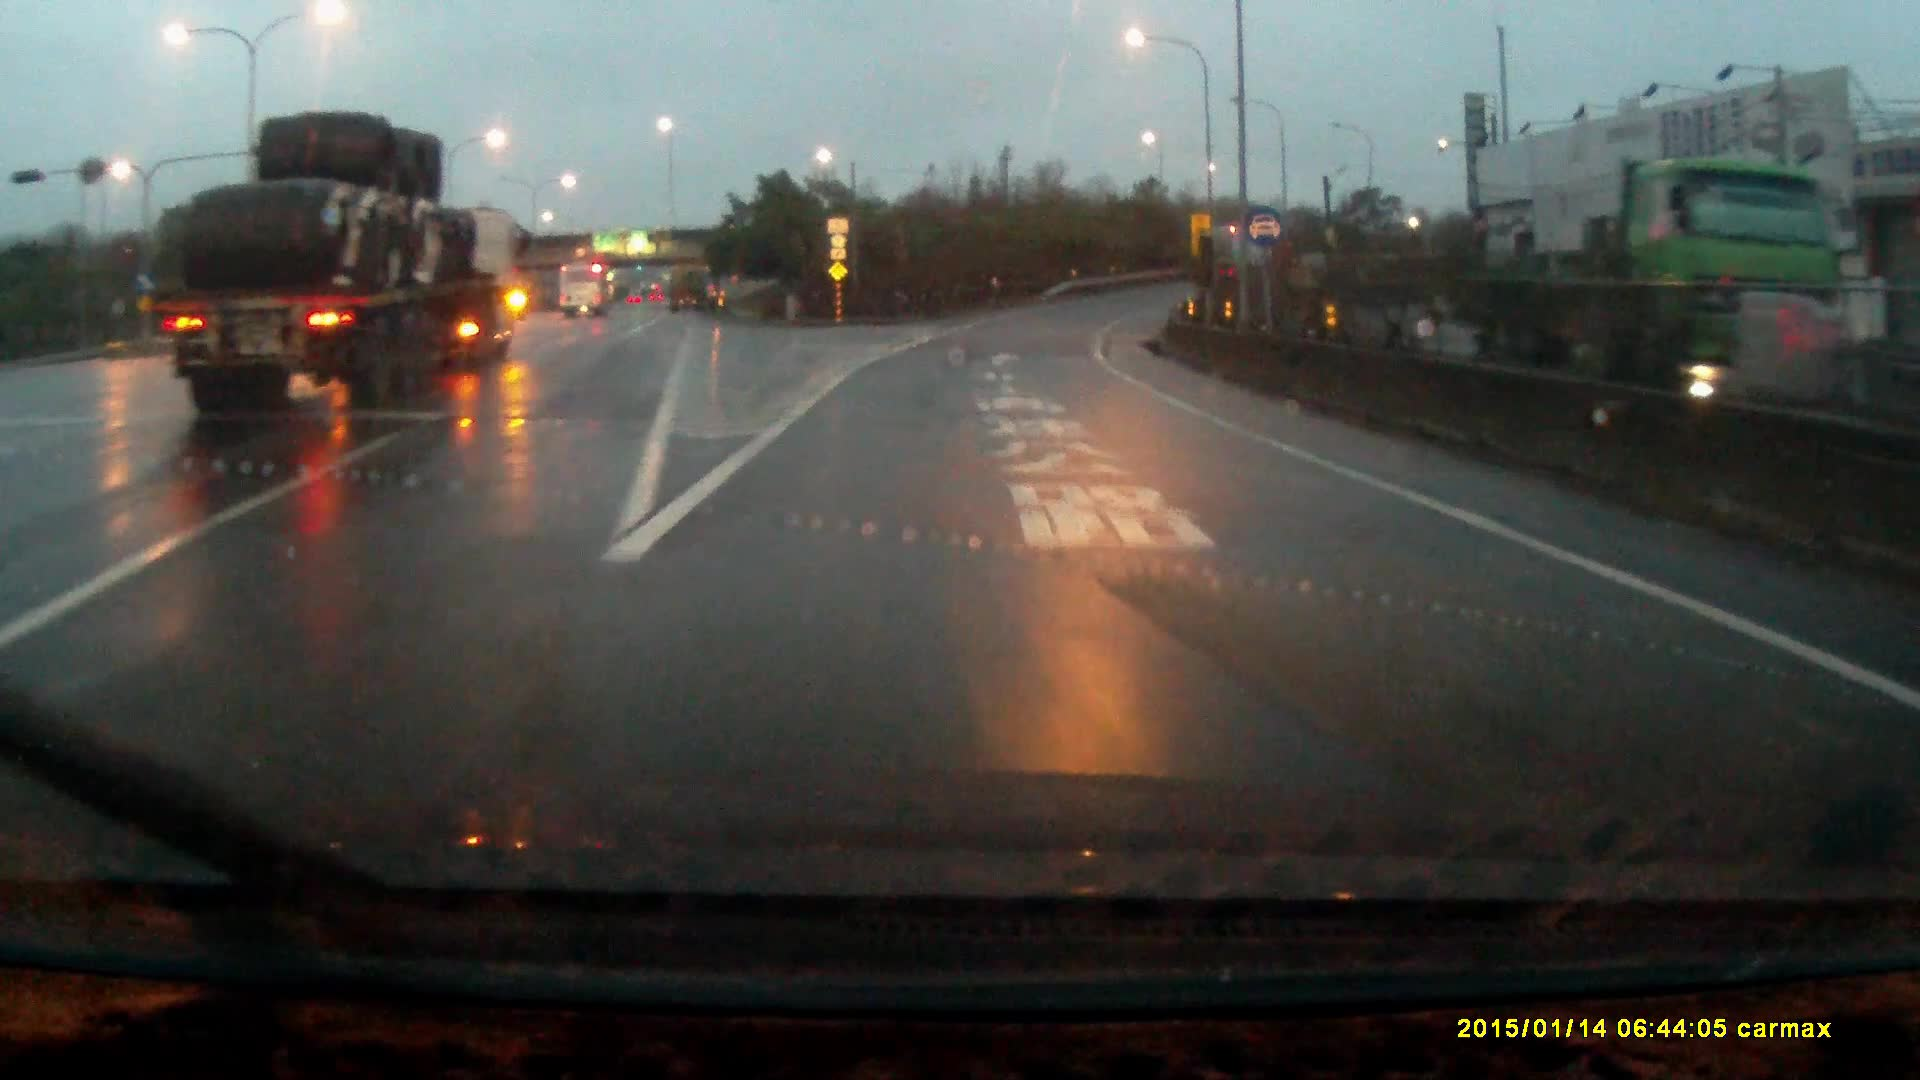vehicle: (144, 111, 531, 406), (556, 261, 611, 320)
